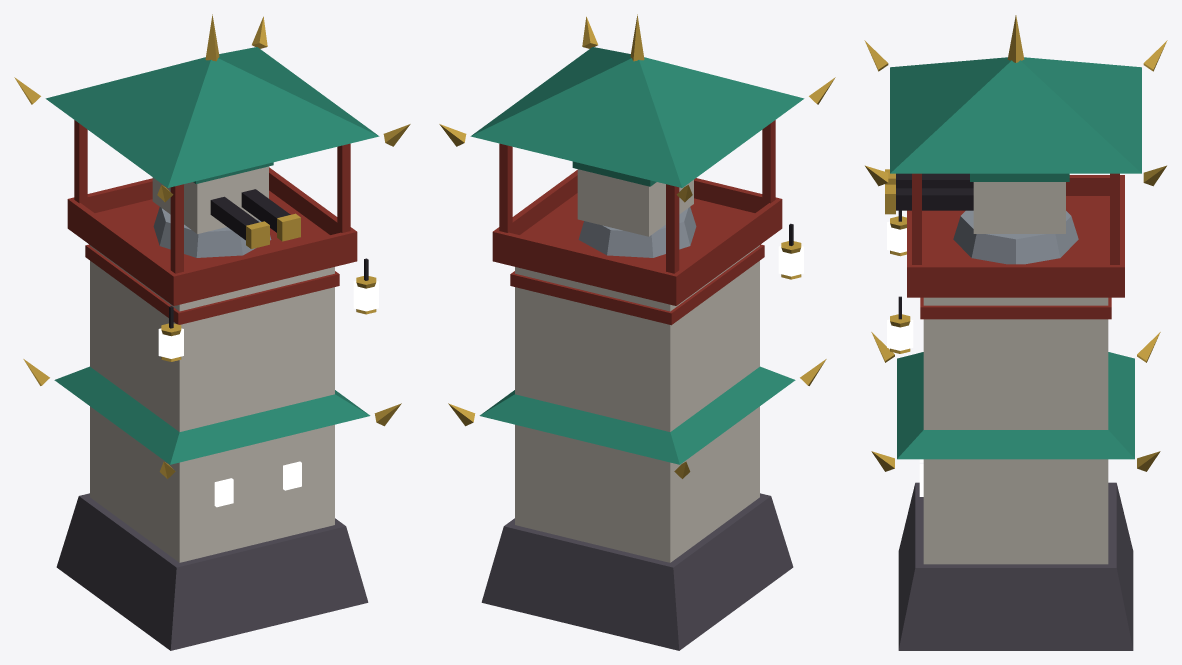
Rendered from tower_t3.glb.
The picture shows the model from 3 angles, left to right: view 1: azimuth 30°, elevation 25°; view 2: azimuth 150°, elevation 25°; view 3: azimuth 270°, elevation 25°; orthographic projection. The views are drawn at different scales.
Parts seen in each view (by area): view 1: body, part_turret, glow; view 2: body, part_turret, glow; view 3: body, part_turret, glow.
Part boxes in pixels (<box>): body: <box>14,14,410,650</box>; part_turret: <box>152,162,300,257</box>; glow: <box>158,281,378,507</box>; body: <box>439,14,835,650</box>; part_turret: <box>572,161,696,257</box>; glow: <box>778,246,803,276</box>; body: <box>864,15,1167,650</box>; part_turret: <box>885,169,1078,264</box>; glow: <box>887,221,923,496</box>.
Size of the model in its own units: 1.77 by 3.86 by 1.81.
